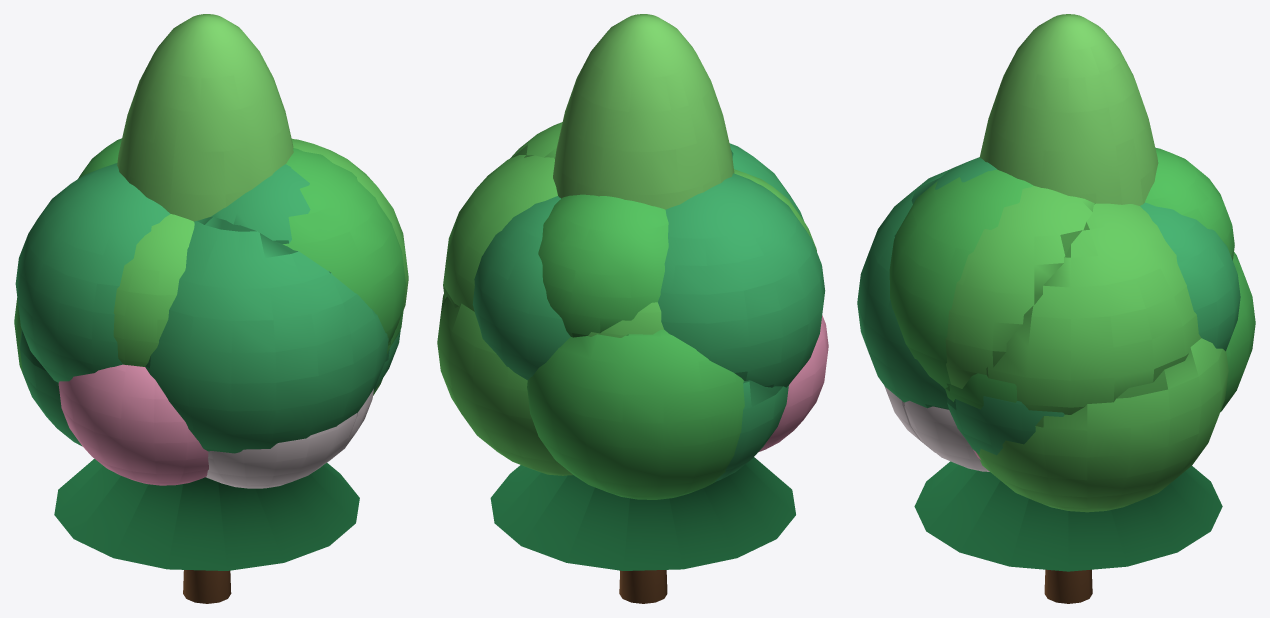
Rendered from arboles.glb.
3 views of the same model, side by side, from view 1: azimuth 30°, elevation 25°; view 2: azimuth 150°, elevation 25°; view 3: azimuth 270°, elevation 25° (orthographic).
Visible parts, largest first — view 1: copa.017, copa.021, capa, copa.020, copa.026, copa, copa.011, copa.028, copa.019, copa.015, copa.008, tronco (+1 smaller); view 2: copa.002, copa.020, copa.021, capa, copa.005, copa.018, copa.007, copa.012, copa.015, copa.026, tronco, copa.009 (+3 smaller); view 3: copa.012, copa.021, copa.007, capa, copa.008, copa, copa.017, copa.018, copa.005, copa.016, copa.032, copa.002 (+3 smaller).
Boxes of the visible parts, x1,y1,x2,y2 form: copa.017: (145,216,388,453); copa.021: (117,14,293,221); capa: (54,459,359,570); copa.020: (15,163,170,382); copa.026: (58,364,208,485); copa: (283,148,405,343); copa.011: (113,214,194,366); copa.028: (206,412,357,488); copa.019: (211,164,310,243); copa.015: (19,329,82,446); copa.008: (292,139,408,328); tronco: (183,570,231,603); copa.002: (527,329,744,499); copa.020: (658,173,825,387); copa.021: (553,14,734,209); capa: (490,457,795,570); copa.005: (538,194,668,337); copa.018: (472,196,570,380); copa.007: (437,294,572,475); copa.012: (443,155,557,311); copa.015: (715,380,788,481); copa.026: (758,315,828,452); tronco: (619,570,667,603); copa.009: (588,302,663,337); copa.012: (986,203,1201,414); copa.021: (979,14,1158,205); copa.007: (976,338,1228,512); capa: (914,461,1222,571); copa.008: (945,186,1094,388); copa: (889,169,1033,388); copa.017: (857,169,950,409); copa.018: (1140,202,1240,351); copa.005: (1145,147,1234,260); copa.016: (947,396,1064,455); copa.032: (904,400,989,471); copa.002: (1220,252,1255,411).
Bounding box in the file's own units: 4.21 × 6.6 × 4.14.
